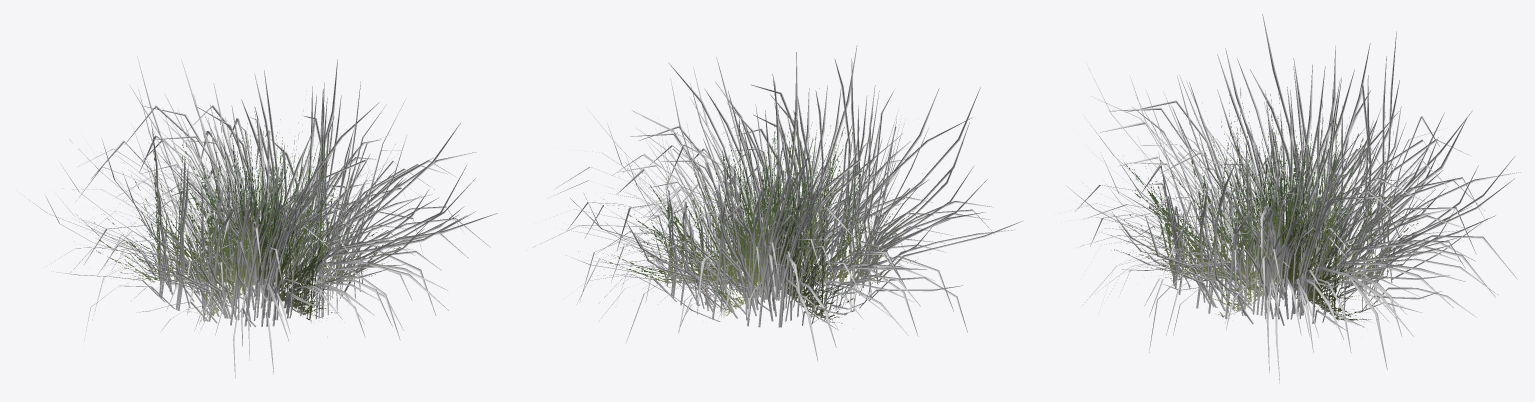
Rendered from PW_Grass_Bush_5.fbx.
3 views of the same model, side by side, from view 1: azimuth 30°, elevation 25°; view 2: azimuth 150°, elevation 25°; view 3: azimuth 270°, elevation 25° (orthographic). The views are drawn at different scales.
Parts seen in each view (by area): view 1: LOD0, Billboard; view 2: LOD0, Billboard; view 3: LOD0, Billboard.
Part boxes in pixels (x1=…): LOD0: x1=24, y1=56, x2=497, y2=378; Billboard: x1=74, y1=107, x2=434, y2=321; LOD0: x1=533, y1=45, x2=1023, y2=360; Billboard: x1=578, y1=88, x2=942, y2=323; LOD0: x1=1065, y1=14, x2=1520, y2=383; Billboard: x1=1082, y1=88, x2=1467, y2=327.
Size of what is drawn, in the model's own units: 87.81 by 44.78 by 81.52.
